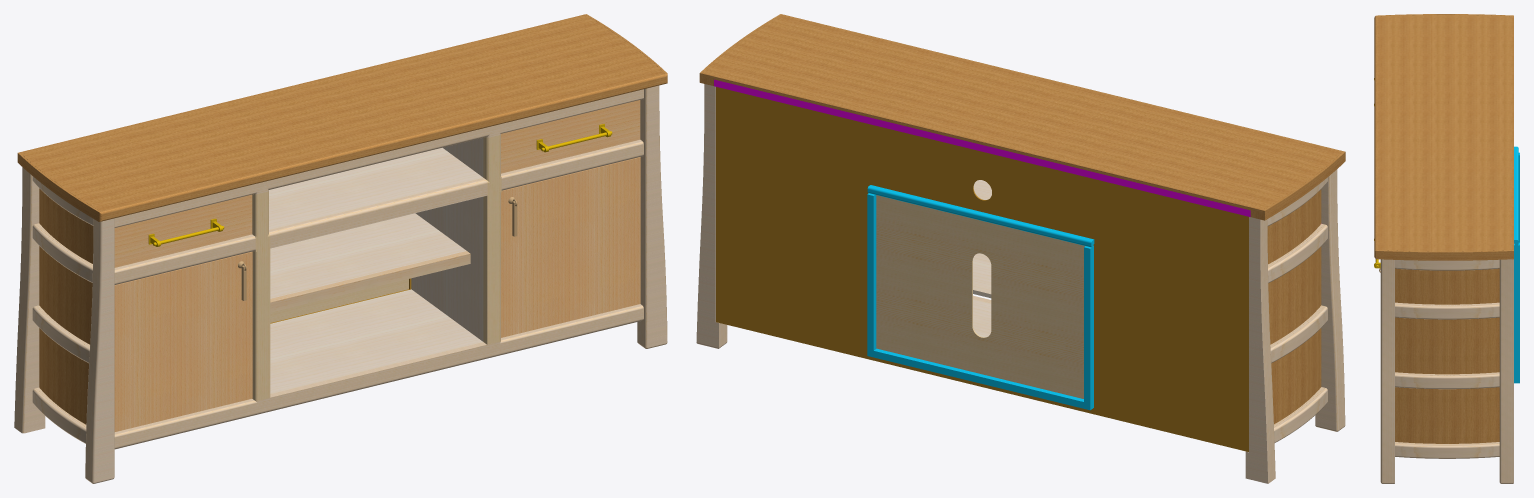
Rendered from IFD6731STF-mwn2fb3a.glb.
The picture shows the model from 3 angles, left to right: view 1: azimuth 30°, elevation 25°; view 2: azimuth 150°, elevation 25°; view 3: azimuth 270°, elevation 25°; orthographic projection. The views are drawn at different scales.
Parts seen in each view (by area): view 1: IFD6731STF-CUBIERTA-1, IFD6731STF- TABLERO PUERTA-1 (×2), IFD6731STF- PISO-2, IFD6731STF - VISTA DE CAJON-1 (×2), IFD6731STF - HUACAL FRONTAL-1/IFD6731STF - ARMADOR FRONTAL-8, IFD6731STF - HUACAL FRONTAL-1/IFD6731STF - ARMADOR FRONTAL C, 6231-ENSAMBLE ENTREPAÑO-1/IFD6731STF- ENTREPAÑO CENTRAL MOBI, IFD6731STF - HUACAL LATERAL-4/IFD6731STF - TABLERO COSTADO-1, IFD6731STF- PISO SUPERIOR-1, IFD6731STF - HUACAL FRONTAL-1/IFD6731STF- POSTE FRONTAL CENT (×2), IFD6731STF - HUACAL FRONTAL-1/IFD6731STF - POSTE FRONTAL-5, IFD6731STF- DIVISION-2 (+10 smaller); view 2: IFD6731STF - RESPALDO-2, IFD6731STF-CUBIERTA-1, 6731STF- RESPALDO REMOVIBLE-1/6731STF- RESPALDO MOVIL-1, IFD6731STF - HUACAL LATERAL-4/IFD6731STF - TABLERO COSTADO-1, IFD6731STF - HUACAL LATERAL-4/IFD6731STF - POSTE POSTERIOR C, IFD6731STF - HUACAL FRONTAL-1/IFD6731STF - POSTE FRONTAL-5, IFD6731STF - HUACAL LATERAL-2/IFD6731STF - POSTE POSTERIOR C, IFD6731STF-CARGADOR FRONTAL CUBIERTA-2, 6731STF- CARGADOR INFERIOR RESPALDO REMOVIBLE-1, 6731STF- RESPALDO REMOVIBLE-1/6731STF- JALADERA RESPALDO REM, 6731STF- CARGADOR LATERAL RESPALDO REMOVIBLE-4, 6731STF- CARGADOR LATERAL RESPALDO REMOVIBLE-1 (+5 smaller); view 3: IFD6731STF-CUBIERTA-1, IFD6731STF - HUACAL LATERAL-2/IFD6731STF - TABLERO COSTADO-1, IFD6731STF - HUACAL LATERAL-2/IFD6731STF - POSTE POSTERIOR C, IFD6731STF - HUACAL FRONTAL-1/IFD6731STF - POSTE FRONTAL-4, IFD6731STF - HUACAL LATERAL-2/IFD6731 STF- ARMADOR COSTADO-5, IFD6731STF - HUACAL LATERAL-2/IFD6731 STF- ARMADOR COSTADO-6, IFD6731STF - HUACAL LATERAL-2/IFD6731 STF- ARMADOR COSTADO-4, IFD6731STF-PARCHE BOQUILLA LATERAL-3, IFD6731STF - HUACAL LATERAL-2/IFD6731 STF- ARMADOR COSTADO-1, 6731STF- CARGADOR LATERAL RESPALDO REMOVIBLE-1, IFD6731STF-BOQUILLA FRONTAL CUBIERTA-3, 6731STF- RESPALDO REMOVIBLE-1/6731STF- JALADERA RESPALDO REM (+2 smaller).
Boxes of the visible parts, x1,y1,x2,y2 form: IFD6731STF-CUBIERTA-1: [20, 14, 665, 211]; IFD6731STF- TABLERO PUERTA-1 (×2): [114, 157, 640, 431]; IFD6731STF- PISO-2: [270, 289, 482, 393]; IFD6731STF - VISTA DE CAJON-1 (×2): [114, 100, 640, 267]; IFD6731STF - HUACAL FRONTAL-1/IFD6731STF - ARMADOR FRONTAL-8: [114, 304, 643, 449]; IFD6731STF - HUACAL FRONTAL-1/IFD6731STF - ARMADOR FRONTAL C: [114, 139, 643, 284]; 6231-ENSAMBLE ENTREPAÑO-1/IFD6731STF- ENTREPAÑO CENTRAL MOBI: [270, 213, 466, 298]; IFD6731STF - HUACAL LATERAL-4/IFD6731STF - TABLERO COSTADO-1: [39, 188, 93, 424]; IFD6731STF- PISO SUPERIOR-1: [269, 147, 482, 229]; IFD6731STF - HUACAL FRONTAL-1/IFD6731STF- POSTE FRONTAL CENT (×2): [252, 134, 501, 400]; IFD6731STF - HUACAL FRONTAL-1/IFD6731STF - POSTE FRONTAL-5: [85, 218, 114, 483]; IFD6731STF- DIVISION-2: [411, 138, 483, 341]; IFD6731STF - RESPALDO-2: [716, 87, 1248, 451]; IFD6731STF-CUBIERTA-1: [701, 14, 1342, 213]; 6731STF- RESPALDO REMOVIBLE-1/6731STF- RESPALDO MOVIL-1: [876, 195, 1084, 398]; IFD6731STF - HUACAL LATERAL-4/IFD6731STF - TABLERO COSTADO-1: [1267, 189, 1321, 424]; IFD6731STF - HUACAL LATERAL-4/IFD6731STF - POSTE POSTERIOR C: [1245, 217, 1275, 483]; IFD6731STF - HUACAL FRONTAL-1/IFD6731STF - POSTE FRONTAL-5: [1315, 169, 1345, 431]; IFD6731STF - HUACAL LATERAL-2/IFD6731STF - POSTE POSTERIOR C: [696, 84, 727, 348]; IFD6731STF-CARGADOR FRONTAL CUBIERTA-2: [714, 79, 1250, 216]; 6731STF- CARGADOR INFERIOR RESPALDO REMOVIBLE-1: [867, 348, 1093, 410]; 6731STF- RESPALDO REMOVIBLE-1/6731STF- JALADERA RESPALDO REM: [867, 185, 1094, 247]; 6731STF- CARGADOR LATERAL RESPALDO REMOVIBLE-4: [1084, 246, 1093, 403]; 6731STF- CARGADOR LATERAL RESPALDO REMOVIBLE-1: [867, 193, 876, 350]; IFD6731STF-CUBIERTA-1: [1376, 15, 1513, 251]; IFD6731STF - HUACAL LATERAL-2/IFD6731STF - TABLERO COSTADO-1: [1395, 268, 1499, 443]; IFD6731STF - HUACAL LATERAL-2/IFD6731STF - POSTE POSTERIOR C: [1499, 259, 1513, 483]; IFD6731STF - HUACAL FRONTAL-1/IFD6731STF - POSTE FRONTAL-4: [1380, 259, 1394, 483]; IFD6731STF - HUACAL LATERAL-2/IFD6731 STF- ARMADOR COSTADO-5: [1395, 302, 1499, 319]; IFD6731STF - HUACAL LATERAL-2/IFD6731 STF- ARMADOR COSTADO-6: [1395, 372, 1499, 389]; IFD6731STF - HUACAL LATERAL-2/IFD6731 STF- ARMADOR COSTADO-4: [1395, 442, 1499, 458]; IFD6731STF-PARCHE BOQUILLA LATERAL-3: [1376, 250, 1513, 260]; IFD6731STF - HUACAL LATERAL-2/IFD6731 STF- ARMADOR COSTADO-1: [1395, 259, 1499, 270]; 6731STF- CARGADOR LATERAL RESPALDO REMOVIBLE-1: [1514, 242, 1519, 377]; IFD6731STF-BOQUILLA FRONTAL CUBIERTA-3: [1374, 16, 1376, 258]; 6731STF- RESPALDO REMOVIBLE-1/6731STF- JALADERA RESPALDO REM: [1514, 146, 1518, 245].
Size of the model in its own units: 1.78 by 0.809 by 0.4602.
Materials: 19 (8 with a texture image).
